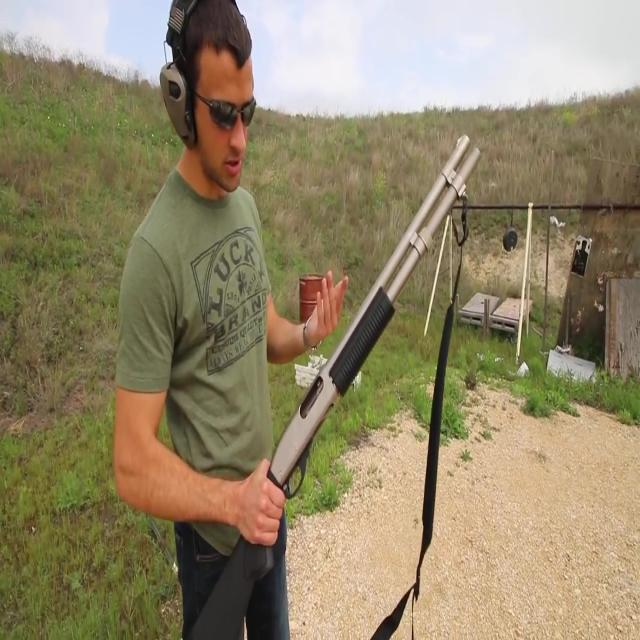Weapon: (193, 116, 479, 640)
